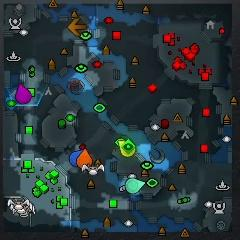Other: (122, 139, 135, 153)
p1: (70, 150, 83, 167)
p2: (125, 178, 145, 194)
p3: (16, 83, 32, 104)
p4: (118, 140, 135, 157)
p5: (77, 149, 92, 168)
x5: (68, 18, 86, 36)
